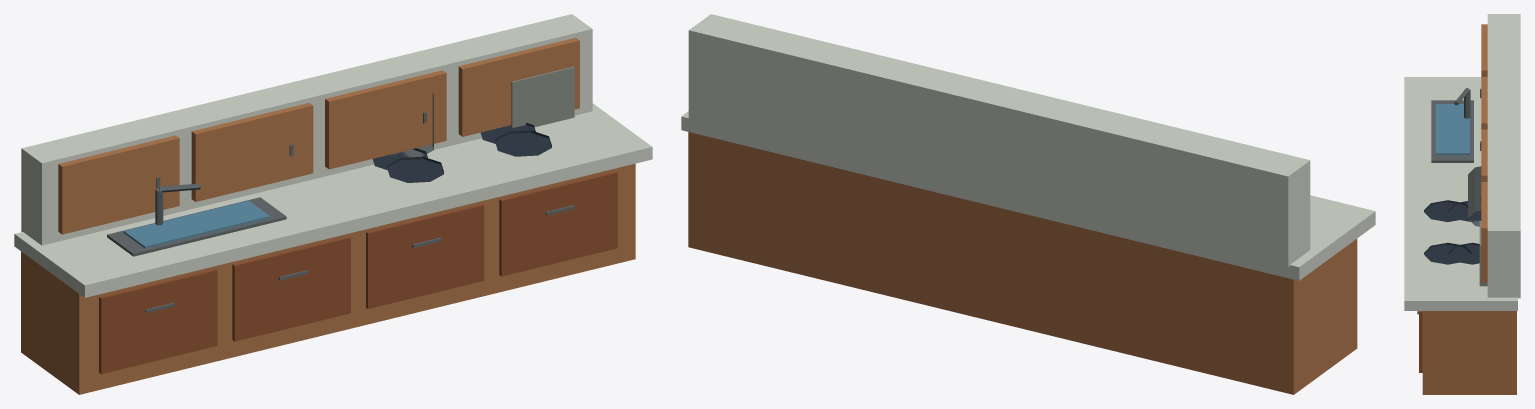
Rendered from kitchenlow.glb.
3 views of the same model, side by side, from view 1: azimuth 30°, elevation 25°; view 2: azimuth 150°, elevation 25°; view 3: azimuth 270°, elevation 25° (orthographic). The views are drawn at different scales.
Size of the model in its own units: 2.6 by 0.8818 by 0.5699.
1 material, 1 textured.
